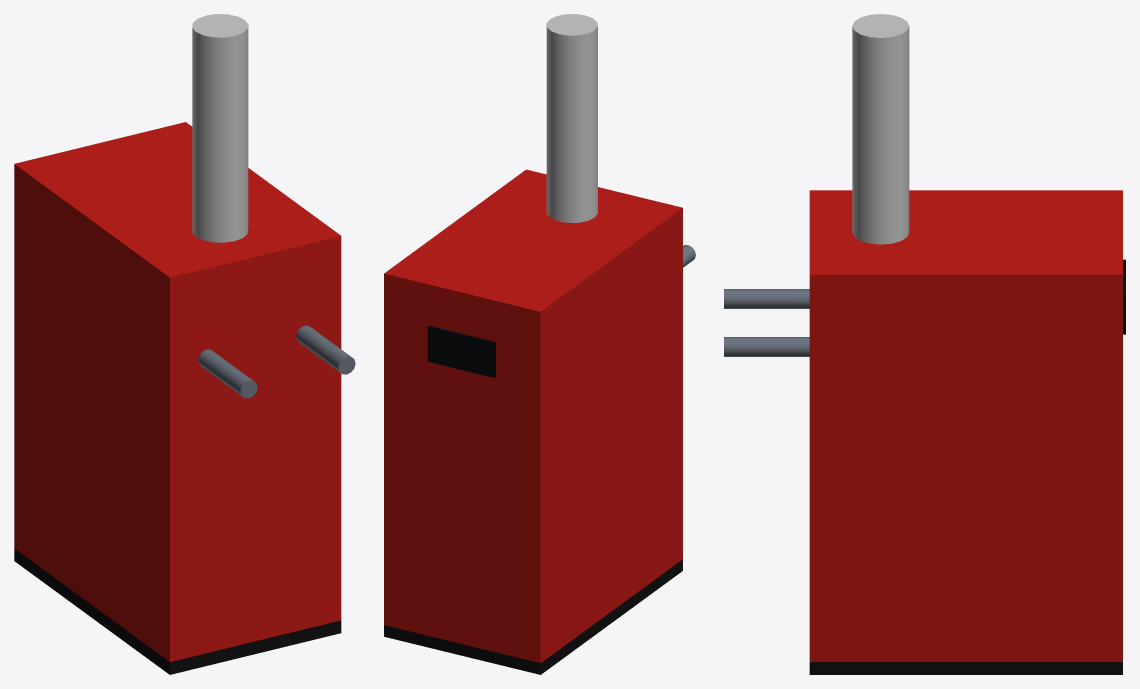
Rendered from services.plant.boiler_commercial.glb.
3 renders of one model, left to right at view 1: azimuth 30°, elevation 25°; view 2: azimuth 150°, elevation 25°; view 3: azimuth 270°, elevation 25°, orthographic. The views are drawn at different scales.
Visible parts, largest first — view 1: main__plastic_red, main__steel_stainless, main__plastic_black, main__steel_painted; view 2: main__plastic_red, main__steel_stainless, main__plastic_black, main__screen; view 3: main__plastic_red, main__steel_stainless, main__plastic_black, main__steel_painted.
Boxes of the visible parts, x1,y1,x2,y2 form: main__plastic_red: (14, 122, 341, 661); main__steel_stainless: (192, 14, 248, 242); main__plastic_black: (14, 548, 341, 674); main__steel_painted: (198, 325, 355, 398); main__plastic_red: (384, 169, 682, 663); main__steel_stainless: (546, 14, 597, 222); main__plastic_black: (384, 559, 682, 674); main__screen: (427, 325, 495, 377); main__plastic_red: (809, 190, 1122, 661); main__steel_stainless: (852, 14, 909, 244); main__plastic_black: (809, 662, 1122, 674); main__steel_painted: (724, 289, 809, 356).
Size of the model in its own units: 0.7 by 2.35 by 1.41.
